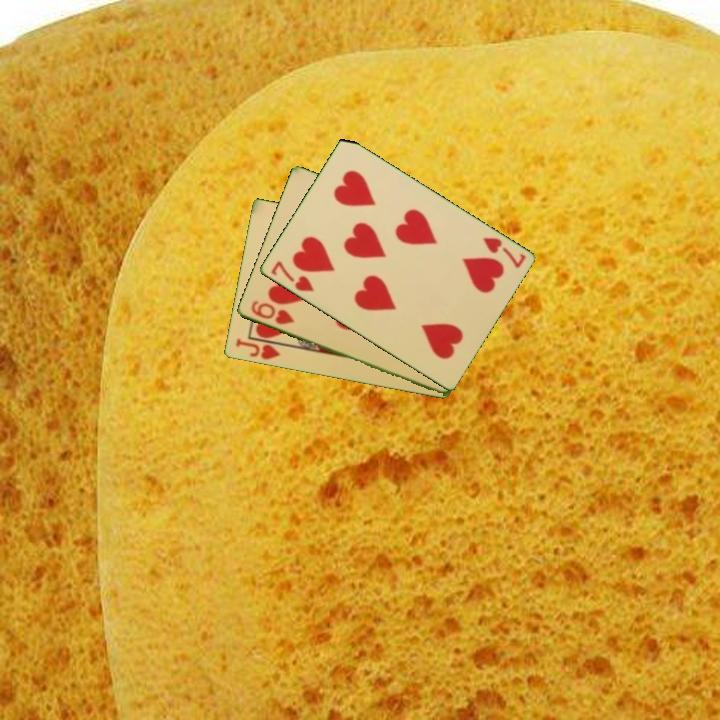6h: (247, 297, 297, 328)
7h: (267, 257, 317, 295), (479, 234, 528, 271)
Jh: (232, 334, 288, 363)
